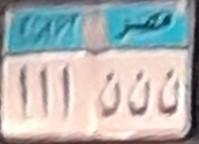1: (35, 62, 53, 119), (16, 64, 32, 119), (58, 65, 74, 117)
noon: (123, 71, 153, 119), (156, 68, 182, 120), (96, 73, 122, 120)
